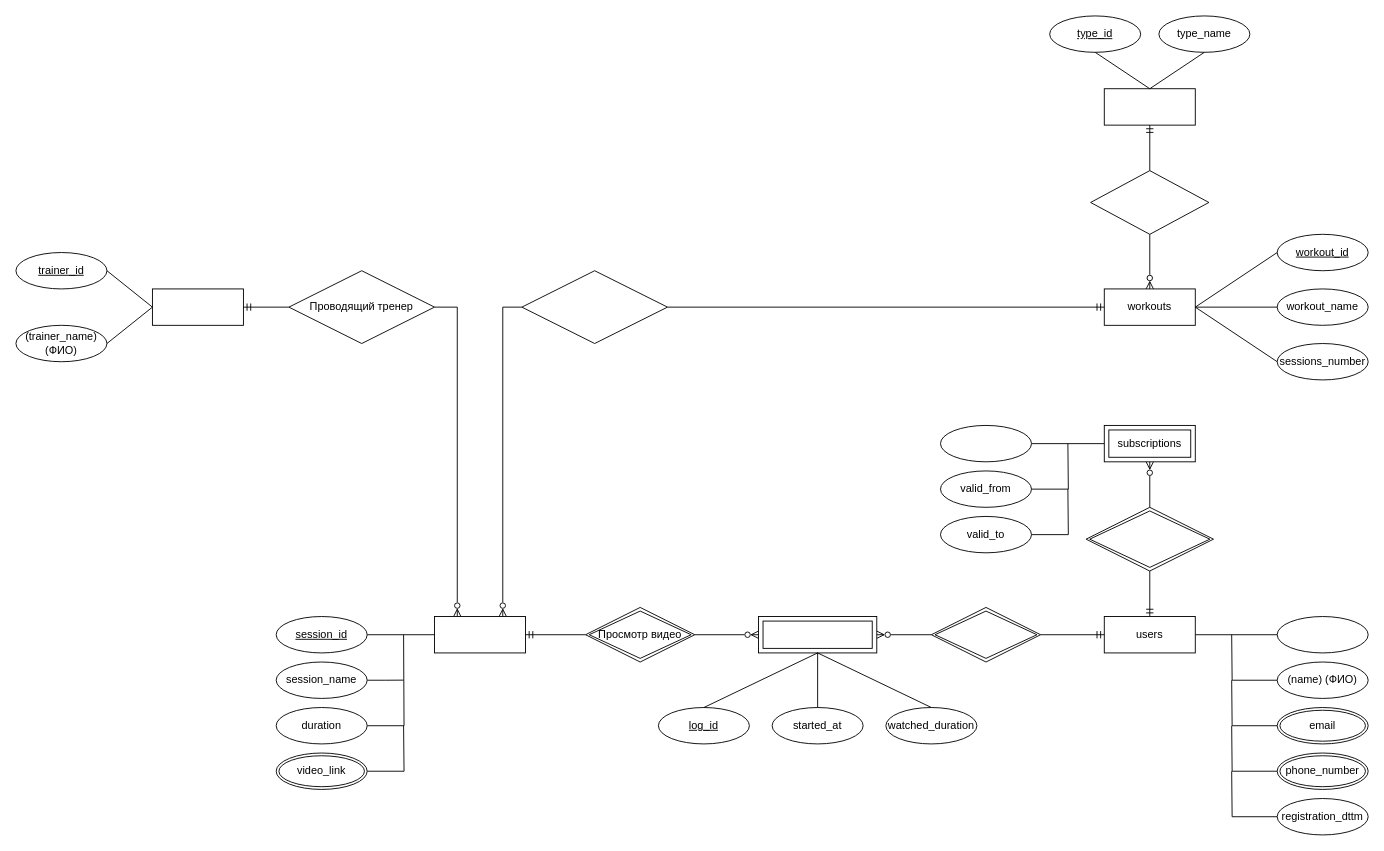
This 1384x851 diagram has some shape labels left out. Here are the shapes that lost their labels. From the top down, the centre of each, then its label:
the point at 1149,106: workout_type
the point at 1149,202: Тип тренировки
the point at 197,306: trainers
the point at 594,307: Сессия комплекса тренировок
the point at 985,443: subscription_id
the point at 1149,538: Подписавшийся пользователь
the point at 480,634: workout_sessions
the point at 817,634: user_session_logs
the point at 985,634: Просмотрено
the point at 1322,634: user_id
